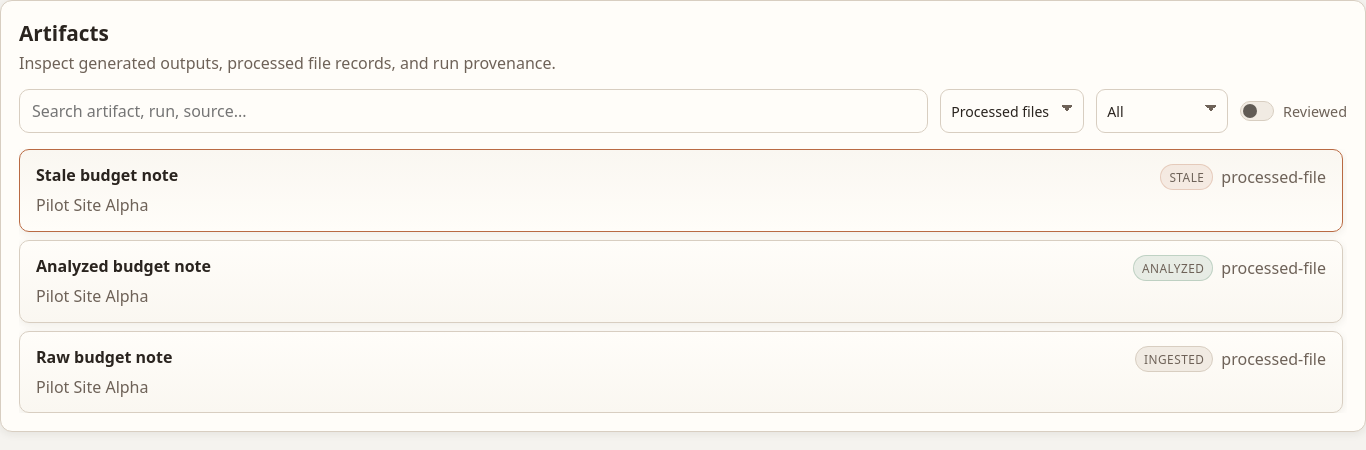
Scenario: ArtifactsPanel › filters processed files down to already analyzed documents
This screenshot has width=1366, height=450.
expect the button "Analyzed budget note" is shown: met, box [19,240,1343,323]
expect the button "Stale budget note Pilot Site Alpha stale processed-file" is shown: met, box [19,149,1343,232]
Click the checkbox labelled "Reviewed" at (1294, 111), box [1240,101,1347,121]
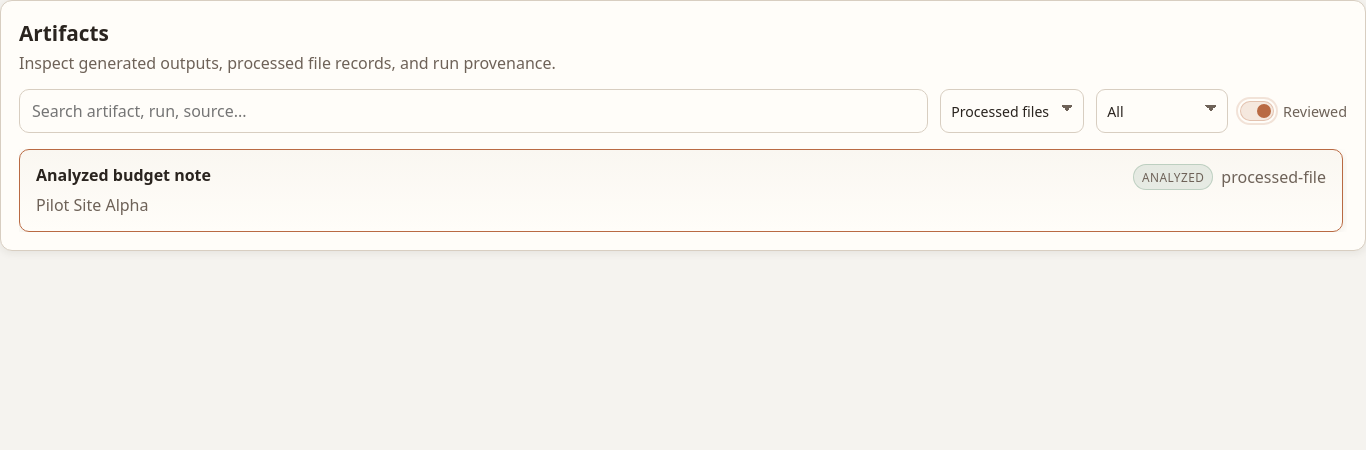
expect the button "Analyzed budget note" is shown: met, box [19,149,1343,232]
expect the button "Stale budget note" is gone: met
expect the button "Raw budget note" is gone: met
